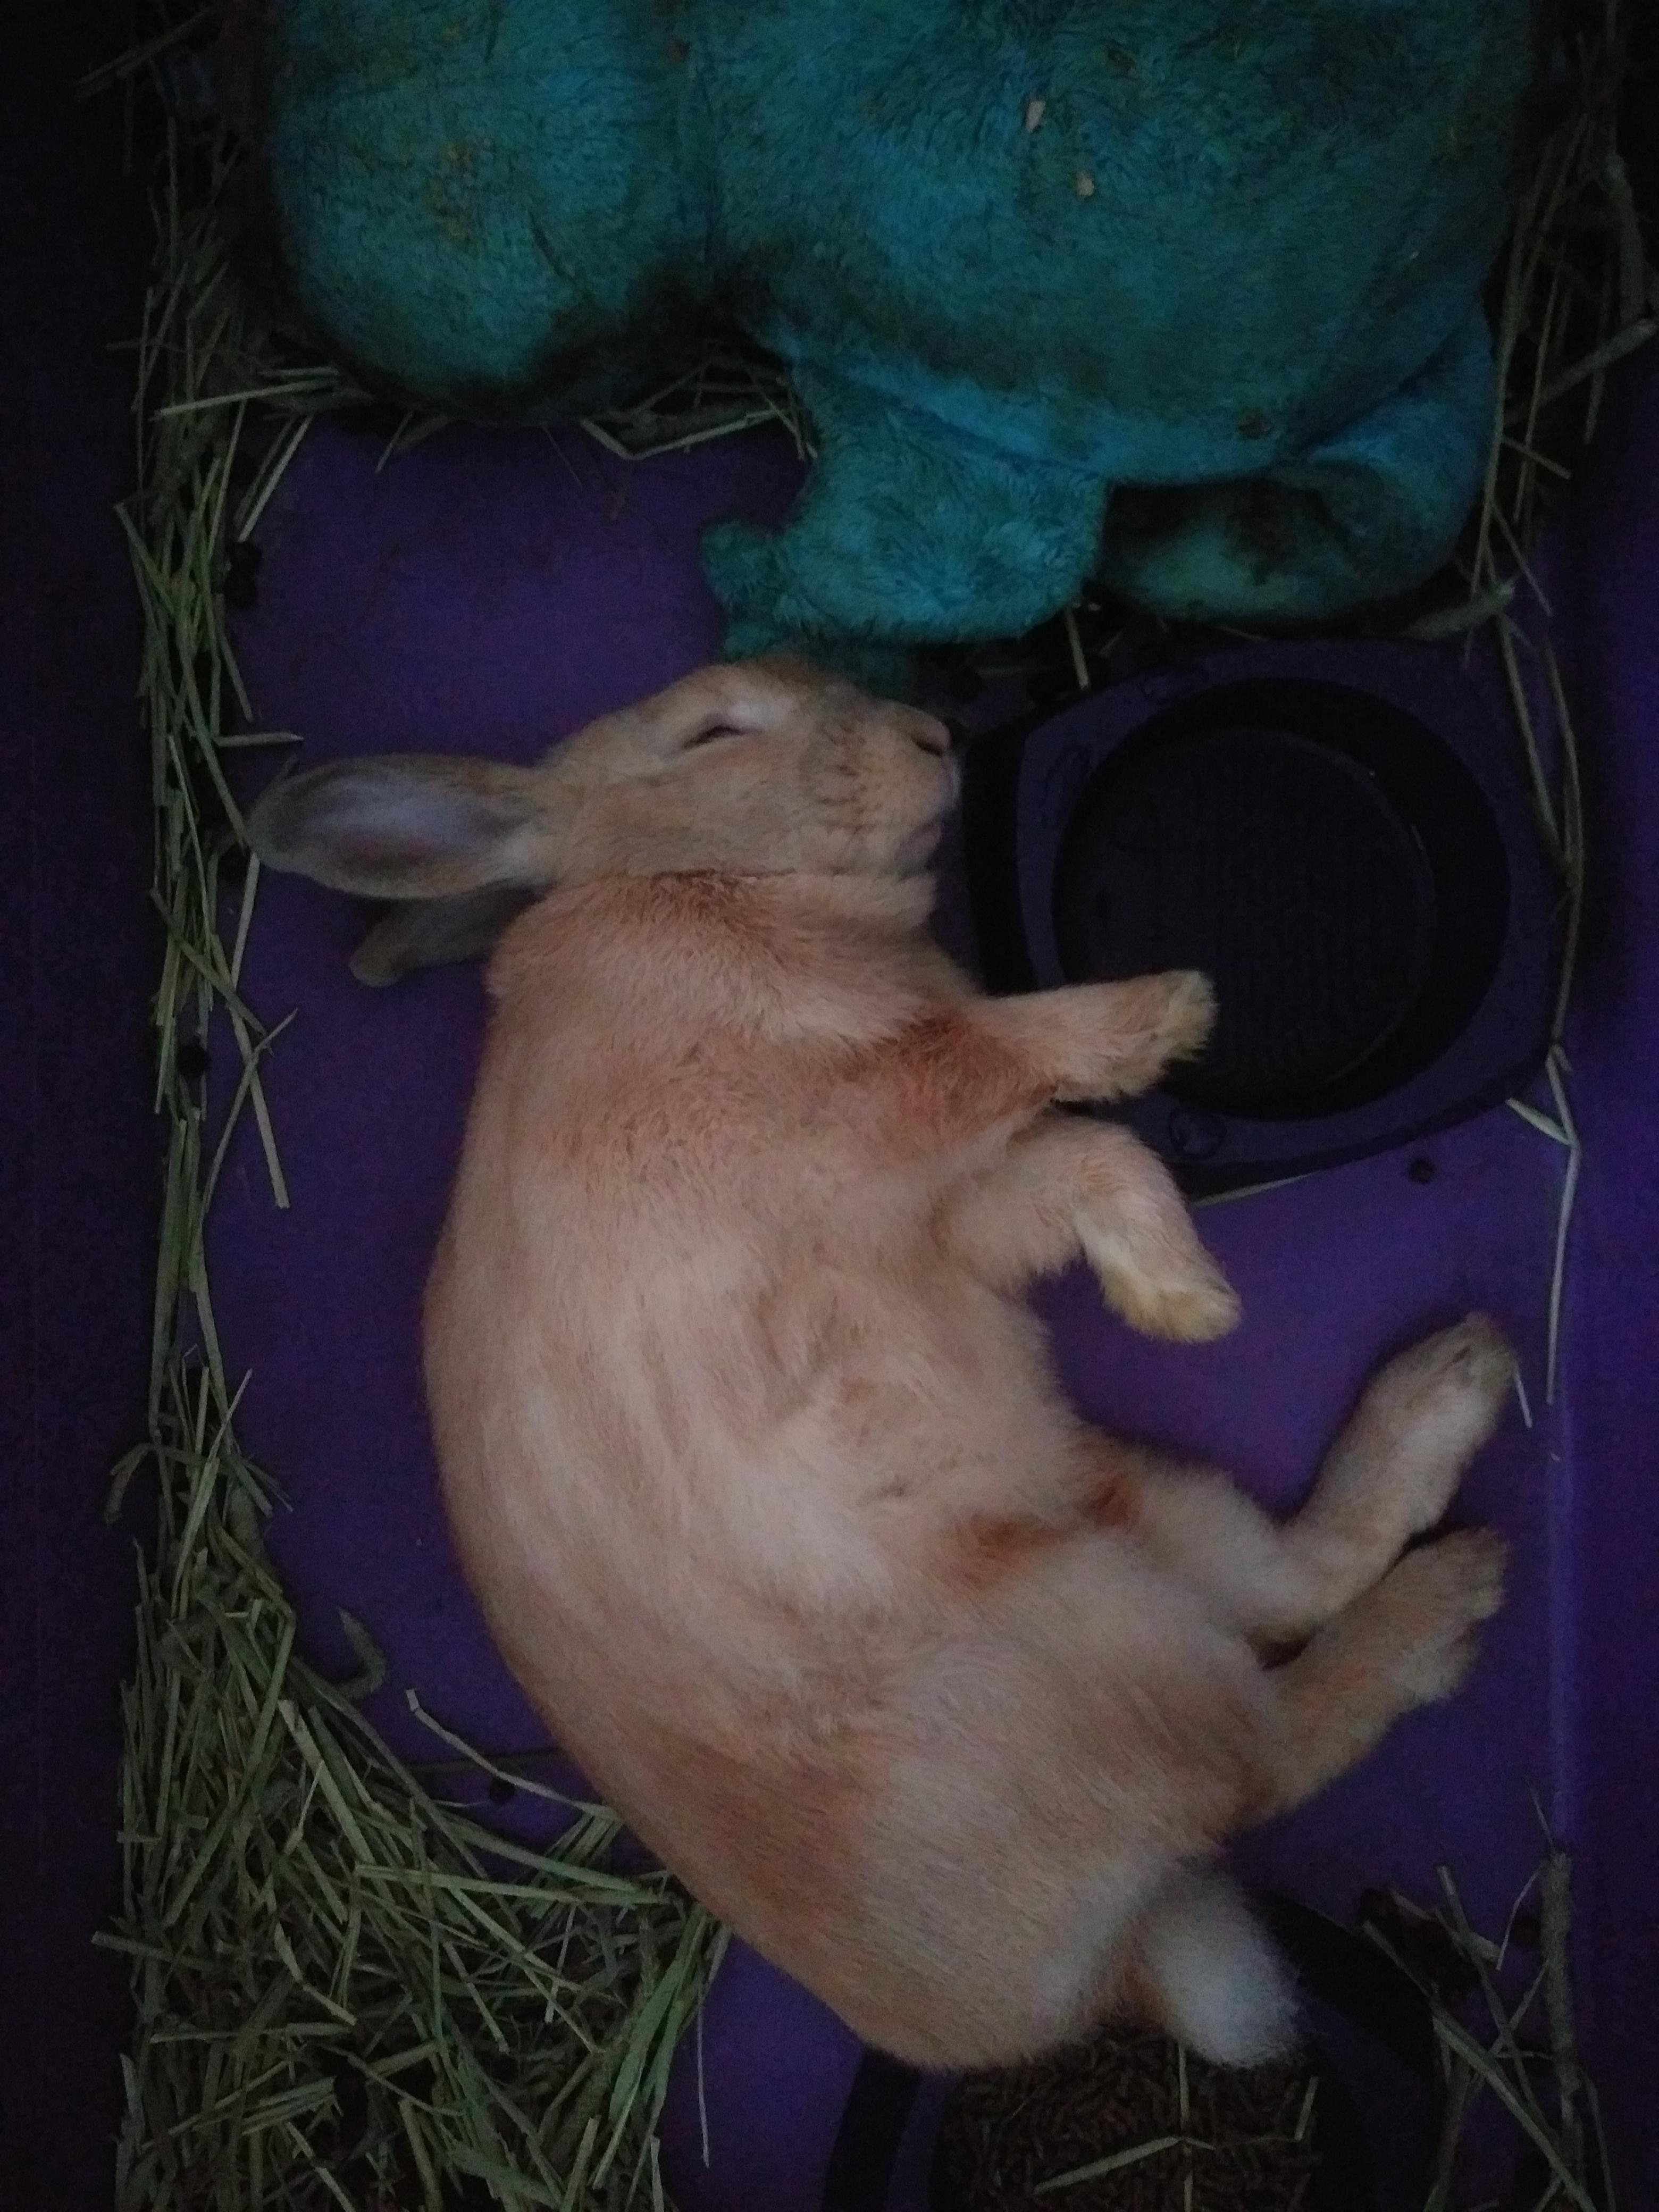bunny: (225, 578, 1547, 2135)
